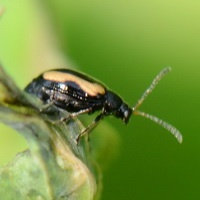insect: (25, 67, 182, 142), (1, 0, 66, 79)
